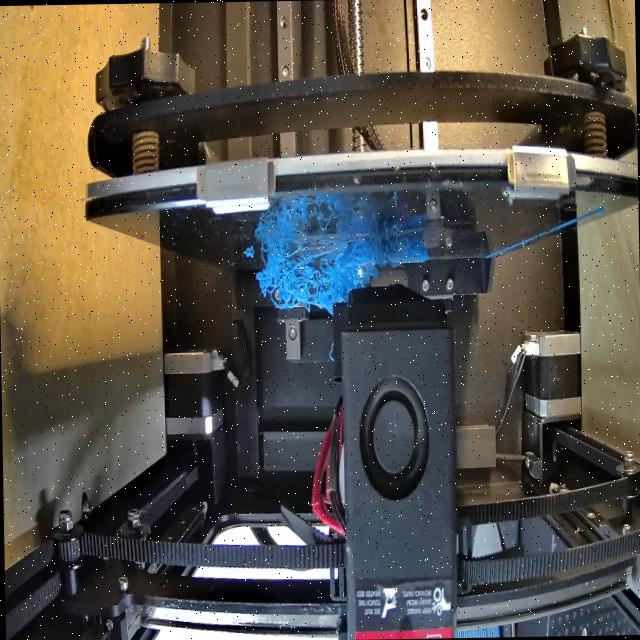spaghetti: (256, 238, 372, 306), (378, 226, 417, 282)
